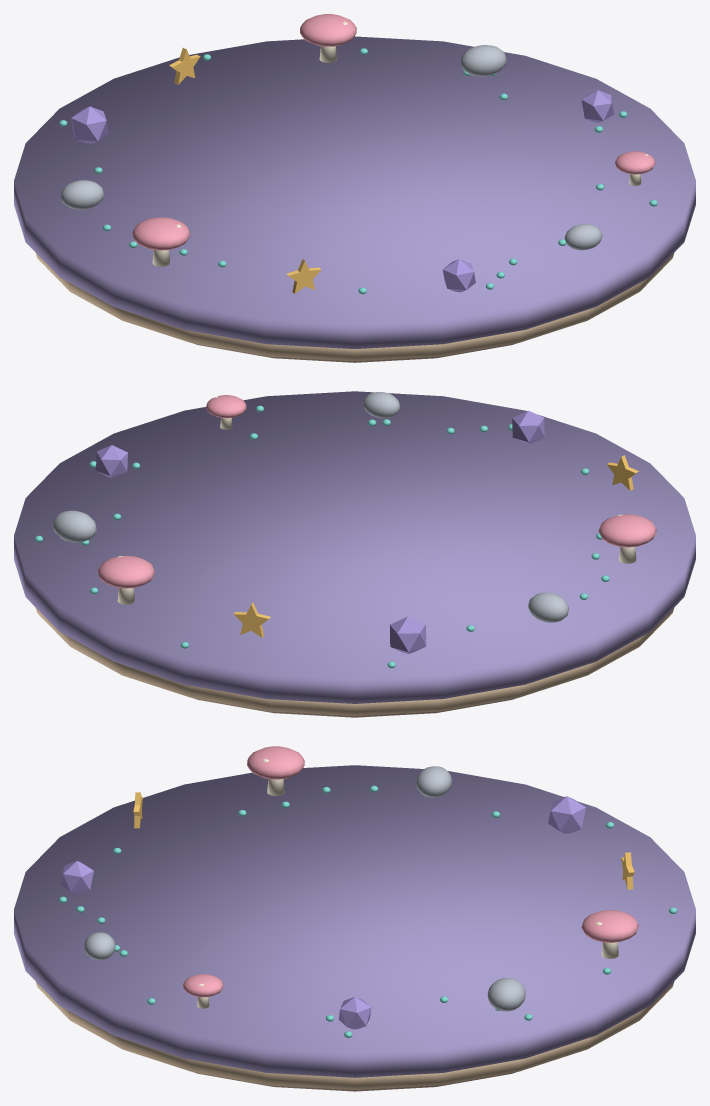
The model's file is world.glb.
3 renders of one model, top to bottom at view 1: azimuth 30°, elevation 25°; view 2: azimuth 150°, elevation 25°; view 3: azimuth 270°, elevation 25°, orthographic.
Visible parts, largest first — view 1: Cone, Cone.001, mushroom.002, mushroom.001, stone.001, gem.002, stone.002, mushroom.003, gem.003, gem.001, stone.003, Cone.002 (+2 smaller); view 2: Cone, Cone.001, mushroom.002, mushroom.001, stone.001, gem.002, stone.002, mushroom.003, gem.003, gem.001, stone.003, star.001 (+2 smaller); view 3: Cone, Cone.001, mushroom.002, mushroom.001, gem.002, stone.001, stone.002, mushroom.003, gem.003, gem.001, stone.003, Cone.002.
Part boxes in pixels (<box>): Cone: <box>14,36,695,348</box>; Cone.001: <box>35,252,674,361</box>; mushroom.002: <box>132,217,190,266</box>; mushroom.001: <box>300,14,356,62</box>; stone.001: <box>460,45,506,76</box>; gem.002: <box>71,106,108,143</box>; stone.002: <box>60,180,103,209</box>; mushroom.003: <box>615,151,655,185</box>; gem.003: <box>442,259,475,292</box>; gem.001: <box>581,90,614,122</box>; stone.003: <box>564,224,602,250</box>; Cone.002: <box>193,343,516,362</box>; Cone: <box>14,391,695,703</box>; Cone.001: <box>35,607,674,716</box>; mushroom.002: <box>598,514,656,563</box>; mushroom.001: <box>97,555,155,604</box>; stone.001: <box>52,510,96,542</box>; gem.002: <box>389,616,426,653</box>; stone.002: <box>528,592,568,622</box>; mushroom.003: <box>206,395,246,429</box>; gem.003: <box>512,410,544,443</box>; gem.001: <box>96,445,127,477</box>; stone.003: <box>363,392,400,418</box>; star.001: <box>233,602,270,637</box>; Cone: <box>14,765,695,1077</box>; Cone.001: <box>35,981,674,1089</box>; mushroom.002: <box>247,746,304,795</box>; mushroom.001: <box>581,910,638,958</box>; gem.002: <box>548,796,585,833</box>; stone.001: <box>487,978,525,1011</box>; stone.002: <box>416,766,451,797</box>; mushroom.003: <box>183,974,223,1008</box>; gem.003: <box>60,861,93,893</box>; gem.001: <box>338,997,371,1029</box>; stone.003: <box>84,932,115,960</box>; Cone.002: <box>193,1072,516,1091</box>.
Size of the model in its own units: 9.6 by 1.45 by 9.6.
